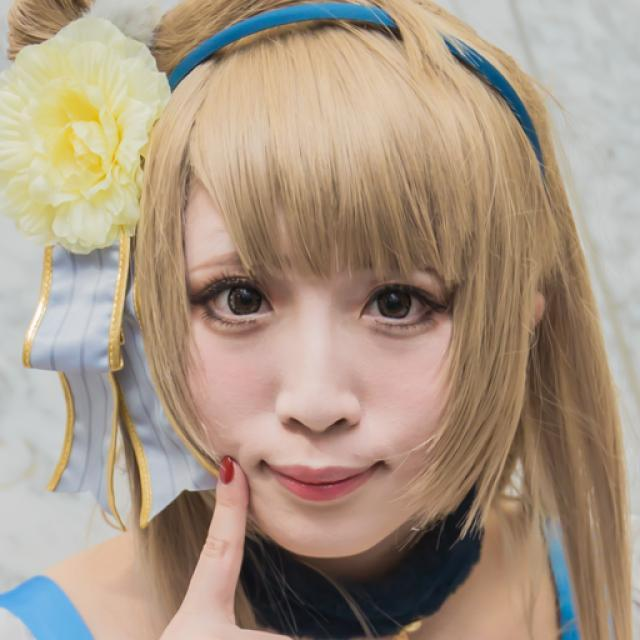surprise: (171, 155, 465, 559)
